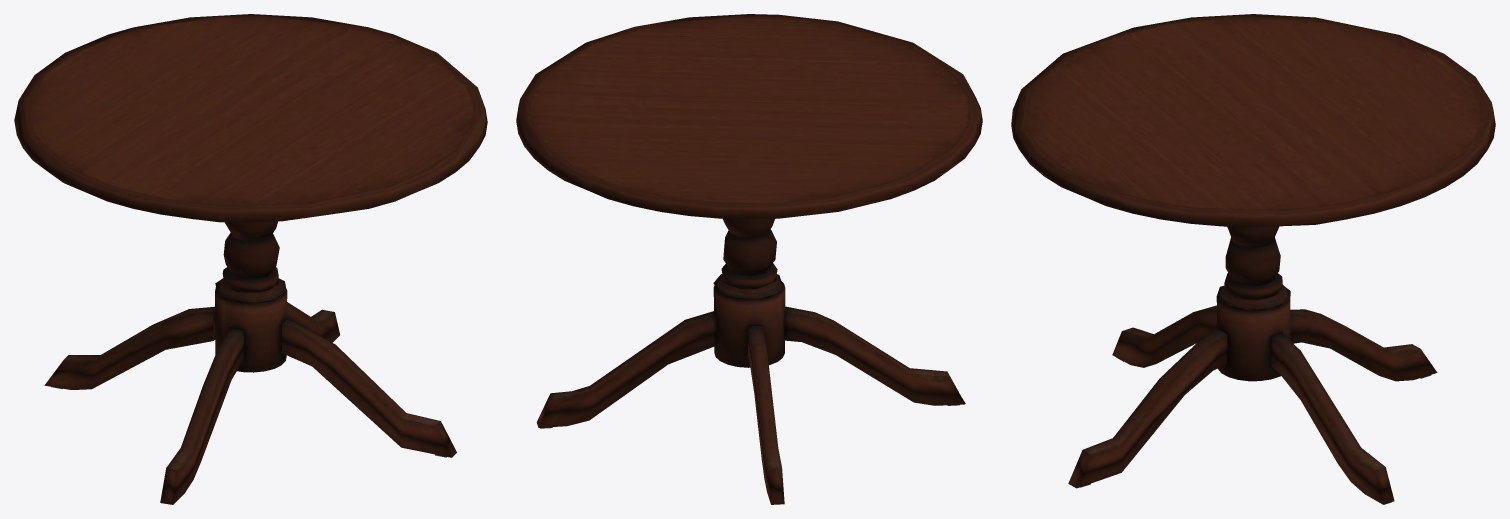
The model's file is round_wooden_table_01.glb.
3 renders of one model, left to right at view 1: azimuth 30°, elevation 25°; view 2: azimuth 150°, elevation 25°; view 3: azimuth 270°, elevation 25°, orthographic. The views are drawn at different scales.
Parts seen in each view (by area): view 1: round_wooden_table_01; view 2: round_wooden_table_01; view 3: round_wooden_table_01.
Part boxes in pixels (x1,y1,x2,y2): round_wooden_table_01: (14,14,487,504); round_wooden_table_01: (516,14,982,504); round_wooden_table_01: (1011,14,1495,504).
Bounding box in the file's own units: 1.4 × 1 × 1.4.
Materials: 1 (1 with a texture image).
